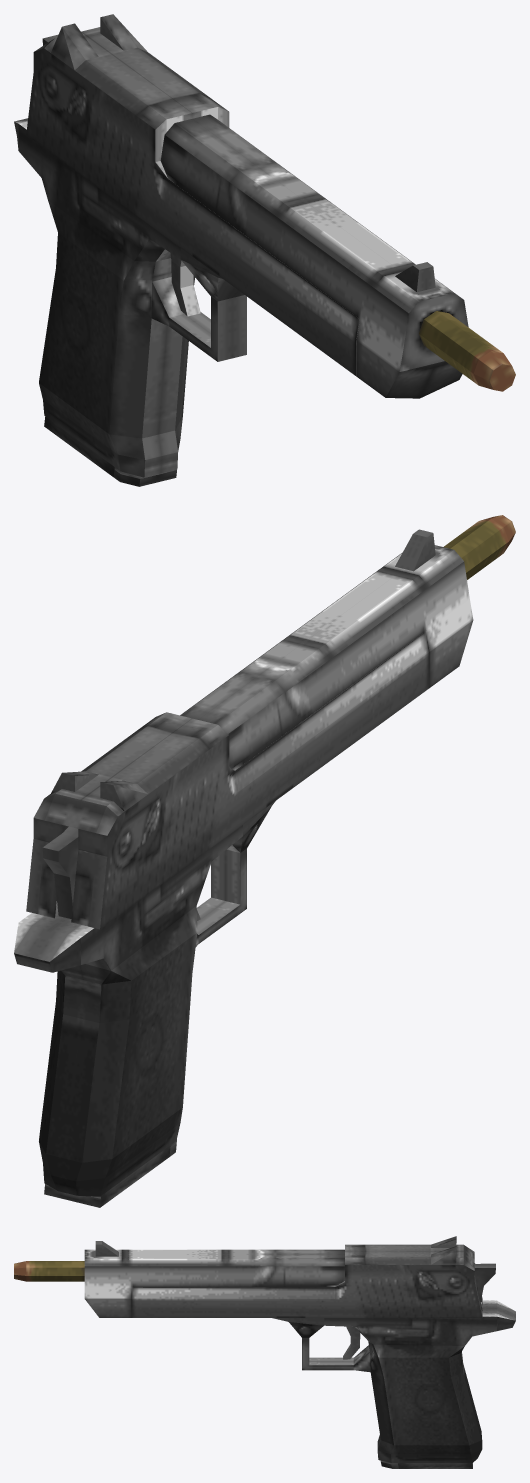
File: gun.glb
3 renders of one model, top to bottom at view 1: azimuth 30°, elevation 25°; view 2: azimuth 150°, elevation 25°; view 3: azimuth 270°, elevation 25°, orthographic. The views are drawn at different scales.
Visible parts, largest first — view 1: Cube.002, Cube.005, Cylinder.002, Cube.001, Cube.004; view 2: Cube.002, Cube.005, Cylinder.002, Cube.003, Cube.001; view 3: Cube.002, Cube.005, Cylinder.002, Cube.001, Cube.003, Cube.004.
Part boxes in pixels (x1,y1,x2,y2): Cube.002: (14, 114, 468, 477); Cube.005: (26, 14, 359, 376); Cylinder.002: (419, 311, 515, 391); Cube.001: (44, 416, 176, 486); Cube.004: (170, 253, 200, 316); Cube.002: (14, 529, 473, 1196); Cube.005: (26, 630, 430, 929); Cylinder.002: (444, 515, 515, 579); Cube.003: (42, 826, 78, 918); Cube.001: (44, 1139, 176, 1207); Cube.002: (84, 1241, 515, 1462); Cube.005: (130, 1236, 482, 1317); Cylinder.002: (14, 1261, 84, 1281); Cube.001: (380, 1460, 472, 1468); Cube.003: (474, 1263, 495, 1301); Cube.004: (343, 1326, 360, 1359).
Bounding box in the file's own units: 0.4962 × 2.64 × 5.49.
Materials: 1 (1 with a texture image).
